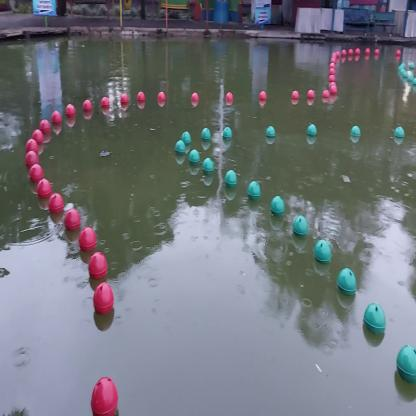green_buoy: (395, 337, 415, 390), (336, 260, 358, 306), (363, 301, 386, 337), (312, 232, 332, 272), (270, 191, 287, 222), (292, 214, 309, 243), (201, 153, 216, 179), (246, 178, 262, 202), (224, 165, 238, 192), (172, 135, 186, 158), (348, 121, 362, 142), (188, 146, 200, 168), (307, 120, 318, 142), (394, 120, 406, 140), (200, 124, 212, 144), (181, 125, 191, 148), (264, 122, 276, 141), (222, 126, 233, 142)
red_buoy: (86, 372, 120, 416), (92, 280, 116, 322), (76, 223, 99, 255), (87, 251, 110, 280), (63, 205, 82, 231), (34, 178, 53, 201), (25, 134, 40, 160), (48, 191, 64, 215), (31, 126, 46, 150), (25, 148, 40, 172), (29, 161, 44, 185), (40, 112, 52, 139), (49, 107, 65, 127), (81, 93, 94, 116), (64, 99, 77, 121), (134, 86, 147, 106), (117, 91, 131, 107), (100, 92, 110, 112), (156, 88, 166, 105), (330, 83, 340, 99), (225, 88, 234, 105), (291, 86, 299, 103), (259, 88, 267, 103), (307, 88, 315, 103), (191, 90, 199, 105), (322, 85, 329, 101)
